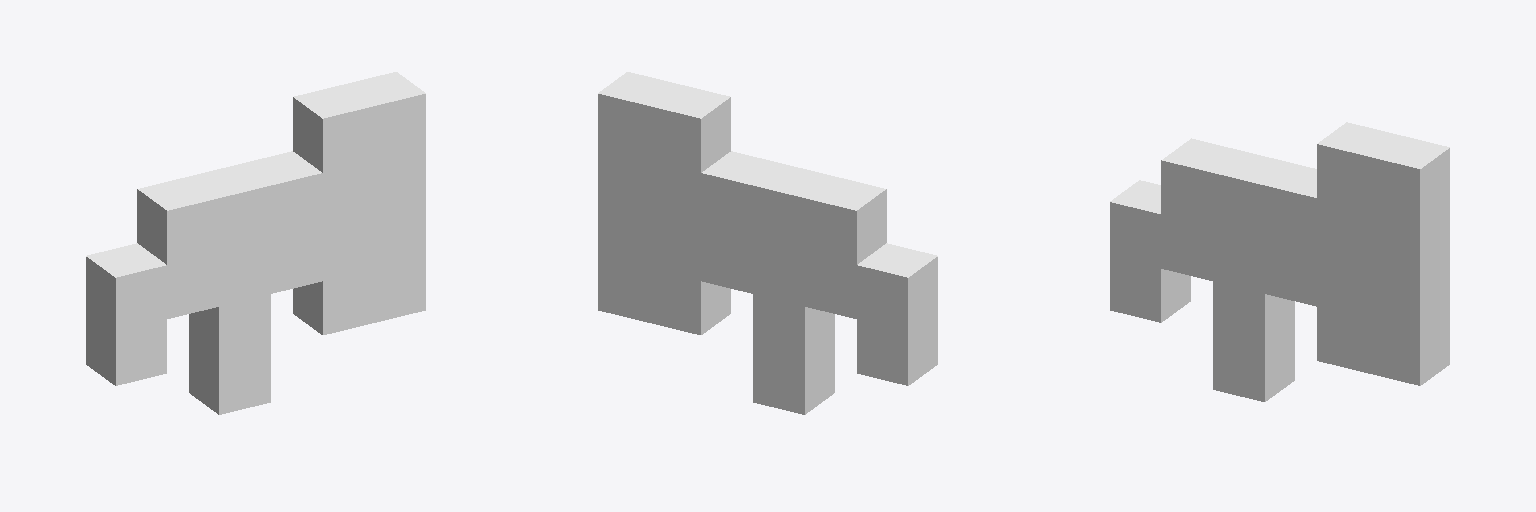
Rendered from YellowHouseParts-31.obj.
3 renders of one model, left to right at view 1: azimuth 30°, elevation 25°; view 2: azimuth 150°, elevation 25°; view 3: azimuth 330°, elevation 25°, orthographic.
Visible parts, largest first — view 1: object 1; view 2: object 1; view 3: object 1.
Part boxes in pixels (left/top/right/bottom): object 1: left=86, top=72, right=425, bottom=414; object 1: left=598, top=72, right=937, bottom=414; object 1: left=1110, top=122, right=1449, bottom=401.
Bounding box in the file's own units: 0.6 × 0.5 × 0.1.